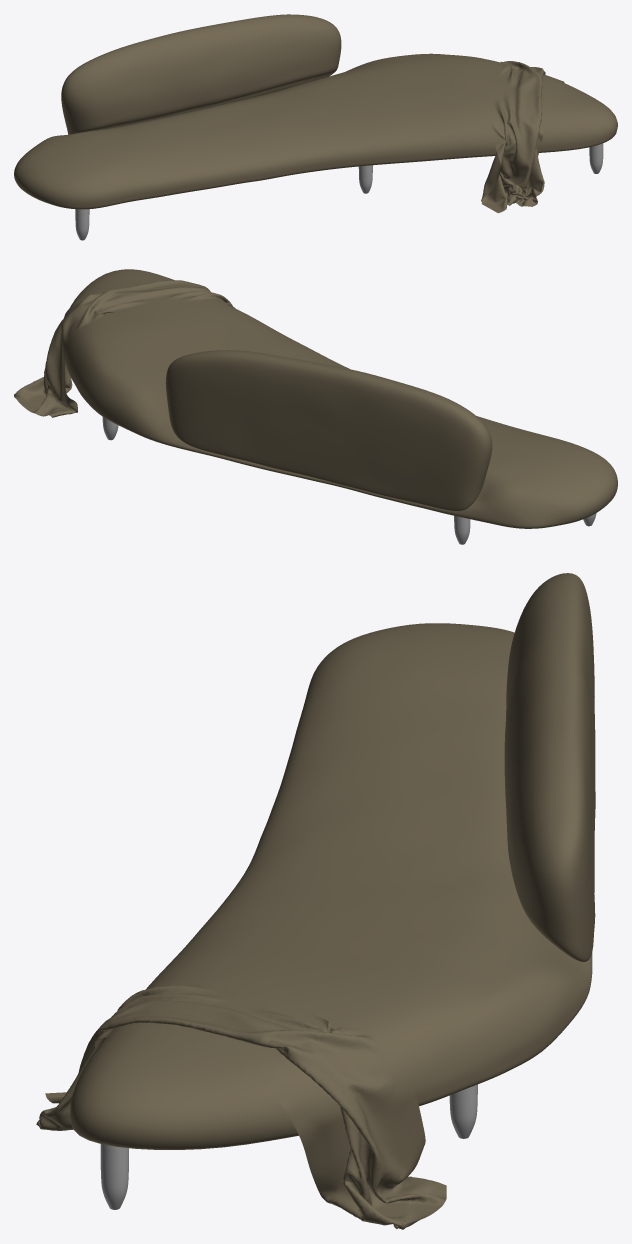
File: Sofa6.FBX
The picture shows the model from 3 angles, top to bottom: view 1: azimuth 30°, elevation 25°; view 2: azimuth 150°, elevation 25°; view 3: azimuth 270°, elevation 25°; orthographic projection. The views are drawn at different scales.
Parts seen in each view (by area): view 1: ns_soft, ns_cloth, ns_hard; view 2: ns_soft, ns_cloth, ns_hard; view 3: ns_soft, ns_cloth, ns_hard.
Part boxes in pixels (left/top/right/bottom): ns_soft: left=14, top=14, right=617, bottom=209; ns_cloth: left=481, top=61, right=564, bottom=213; ns_hard: left=75, top=143, right=603, bottom=240; ns_soft: left=65, top=269, right=617, bottom=528; ns_cloth: left=14, top=280, right=235, bottom=417; ns_hard: left=102, top=417, right=596, bottom=544; ns_soft: left=70, top=573, right=595, bottom=1149; ns_cloth: left=36, top=978, right=446, bottom=1229; ns_hard: left=100, top=1084, right=477, bottom=1209.
Bounding box in the file's own units: 3027 × 742 × 1425.
